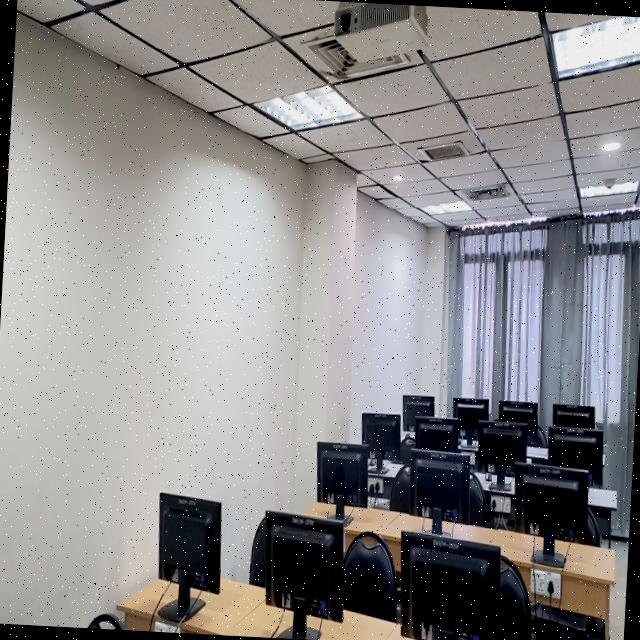Chair: (342, 532, 398, 620), (499, 556, 531, 640), (248, 515, 265, 587)
Light: (551, 15, 640, 77), (254, 85, 361, 129), (580, 180, 637, 197), (424, 200, 470, 212), (600, 141, 620, 150), (391, 174, 404, 180)
Monitor: (399, 530, 500, 640), (264, 512, 343, 640), (157, 493, 220, 625), (513, 463, 587, 564), (401, 450, 481, 523), (546, 426, 602, 485), (476, 421, 525, 488), (316, 441, 367, 505), (497, 401, 545, 445), (362, 414, 399, 470), (453, 399, 487, 447), (414, 416, 457, 451), (401, 395, 433, 429), (551, 403, 594, 427)
Projector: (332, 1, 428, 63)
